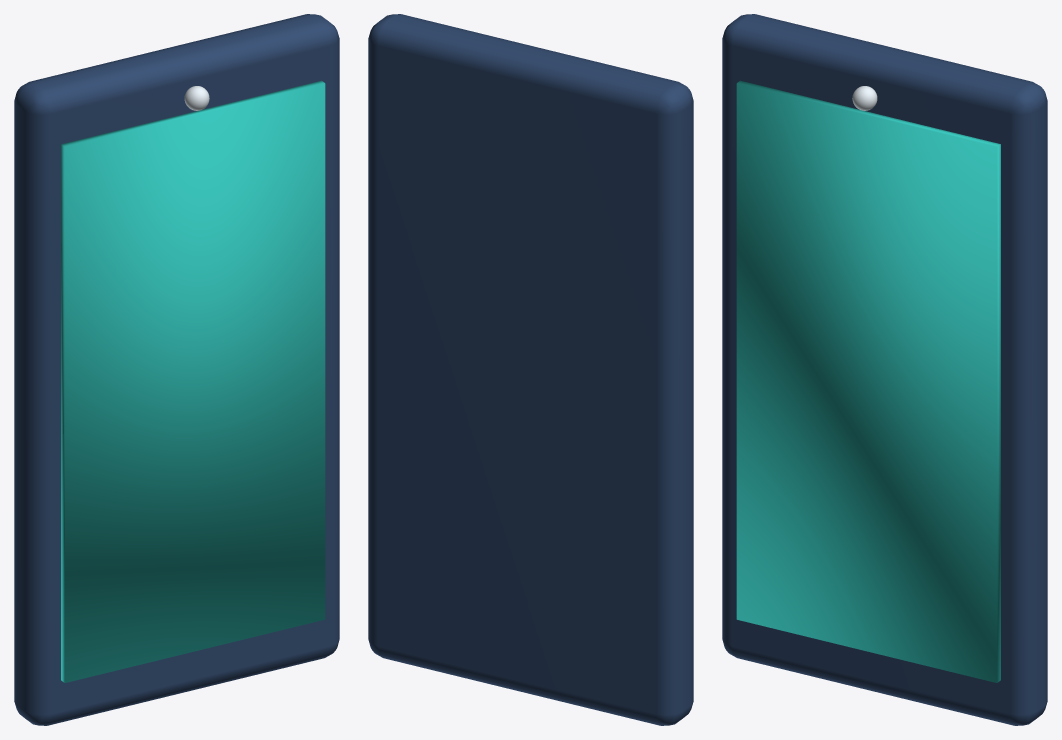
Rendered from smartphone-quality.glb.
3 views of the same model, side by side, from view 1: azimuth 30°, elevation 25°; view 2: azimuth 150°, elevation 25°; view 3: azimuth 330°, elevation 25° (orthographic).
Parts seen in each view (by area): view 1: Phone body; view 2: Phone body; view 3: Phone body.
Part boxes in pixels (x1=…): Phone body: x1=14, y1=14, x2=339, y2=725; Phone body: x1=368, y1=14, x2=693, y2=725; Phone body: x1=722, y1=14, x2=1047, y2=725.
Bounding box in the file's own units: 0.72 × 1.4 × 0.16.
